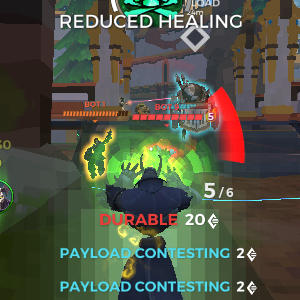model: (81, 123, 113, 178)
